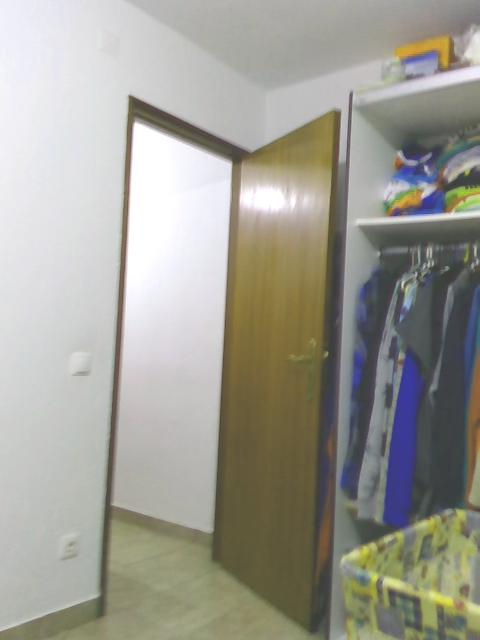open_door: (100, 92, 262, 615)
